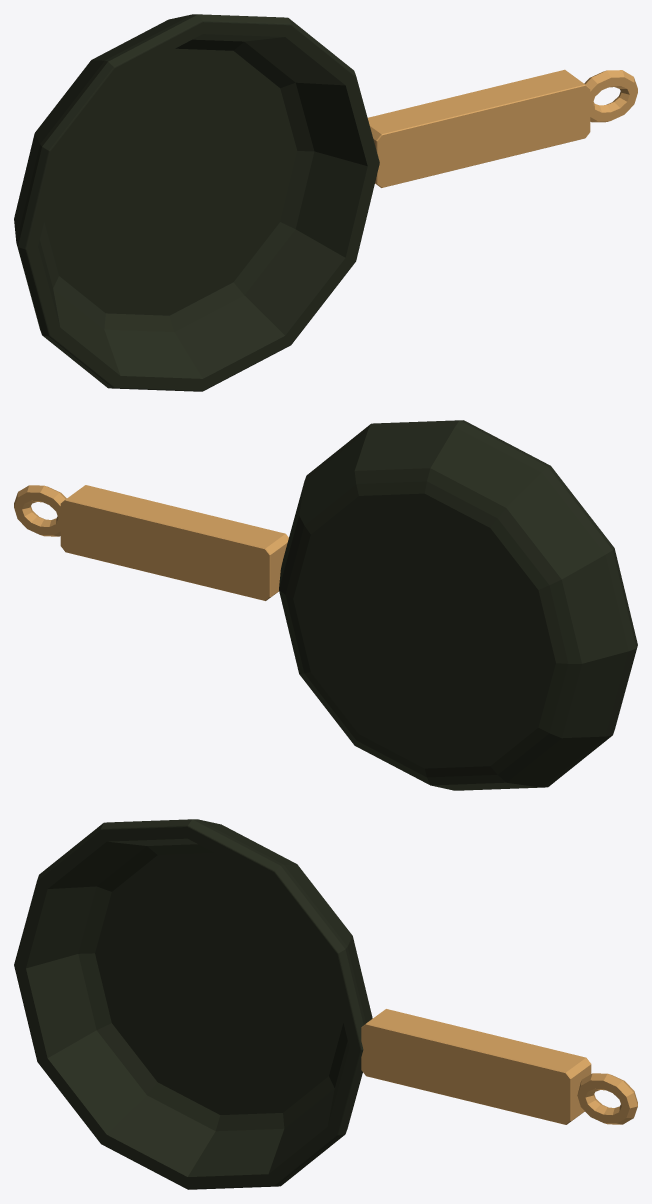
File: frying_pan.glb
3 renders of one model, top to bottom at view 1: azimuth 30°, elevation 25°; view 2: azimuth 150°, elevation 25°; view 3: azimuth 330°, elevation 25°, orthographic.
Visible parts, largest first — view 1: frying_pan; view 2: frying_pan; view 3: frying_pan.
Boxes of the visible parts, x1,y1,x2,y2 form: frying_pan: (14,14,637,391); frying_pan: (14,420,637,790); frying_pan: (14,819,637,1189).
Size of the model in its own units: 0.3045 by 0.175 by 0.034.
